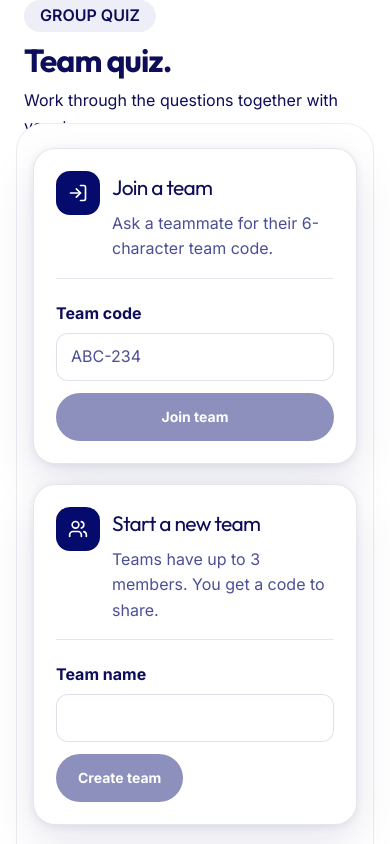
it: group quiz page: joining a team › keeps Join disabled for a malformed code
The width and height of the screenshot is (390, 844).
Step 1. Type "ABC" into the field labelled "Team code" → (195, 357), box x1=56 y1=333 x2=334 y2=381
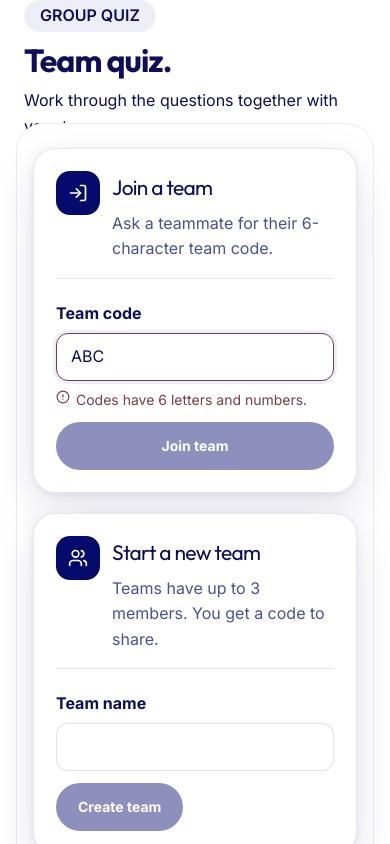
Expected: the button "Join team" is disabled, x1=56 y1=422 x2=334 y2=470
Result: the text "Codes have 6 letters and numbers." is shown at x1=56 y1=389 x2=334 y2=410
